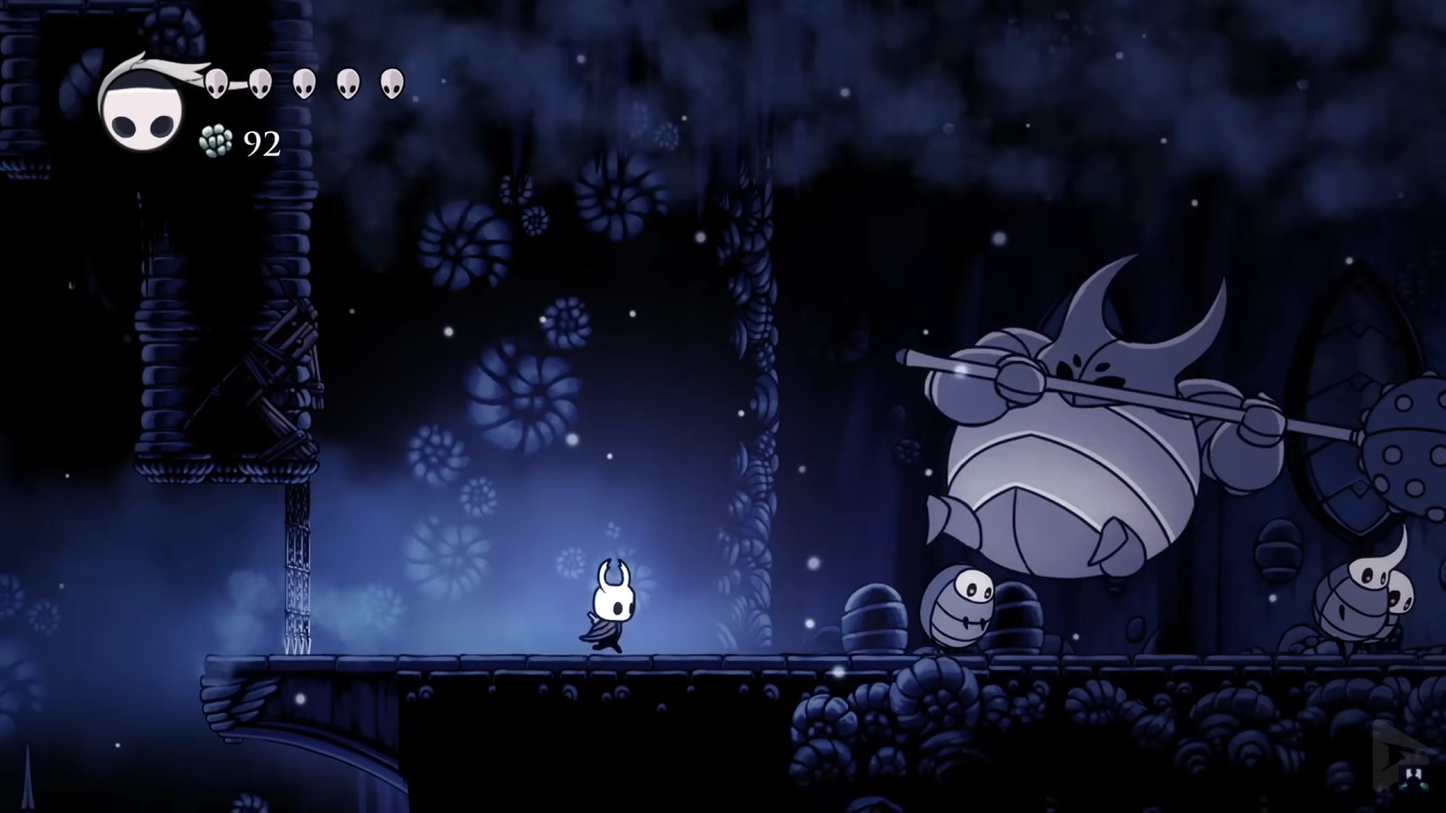HK: (579, 556, 642, 655)
